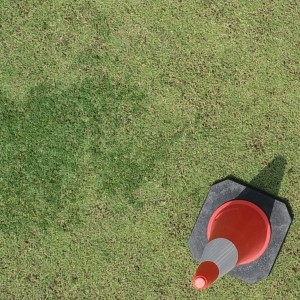traffic cone: (187, 178, 292, 289)
